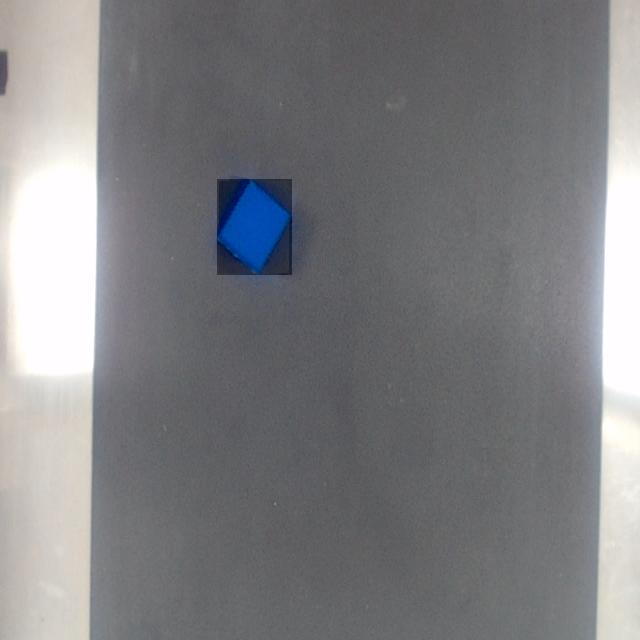Azul: (217, 179, 292, 275)
